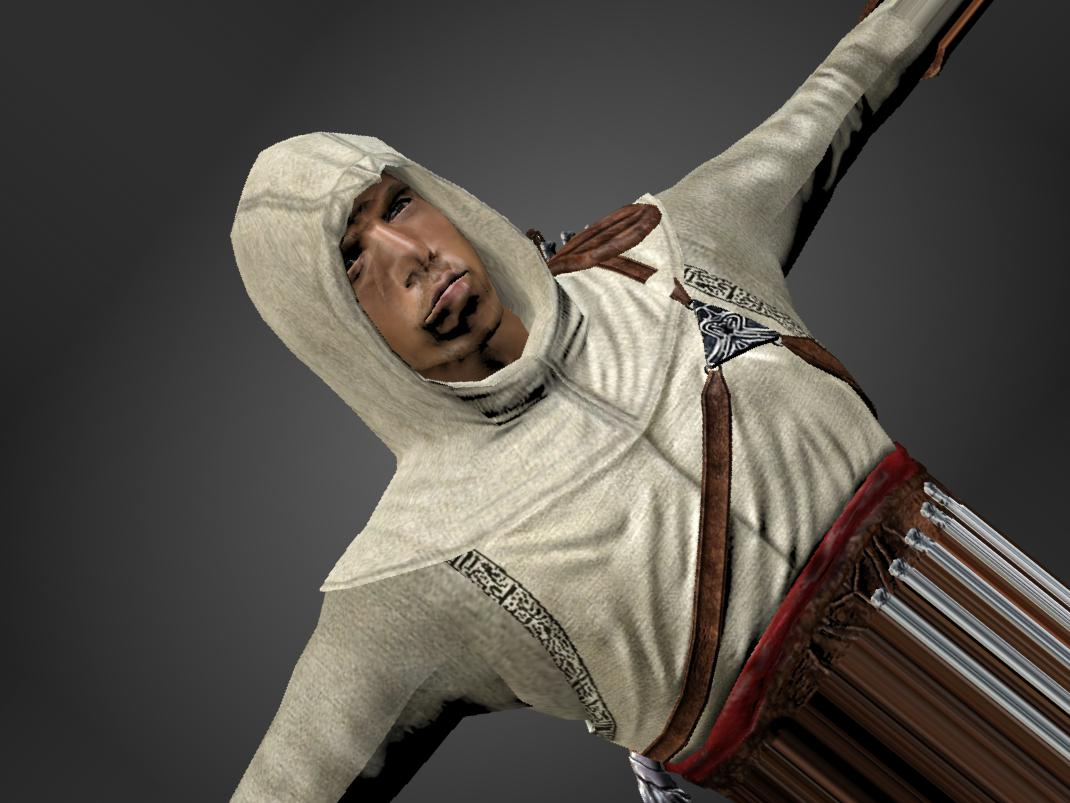clip: (640, 270, 676, 299)
